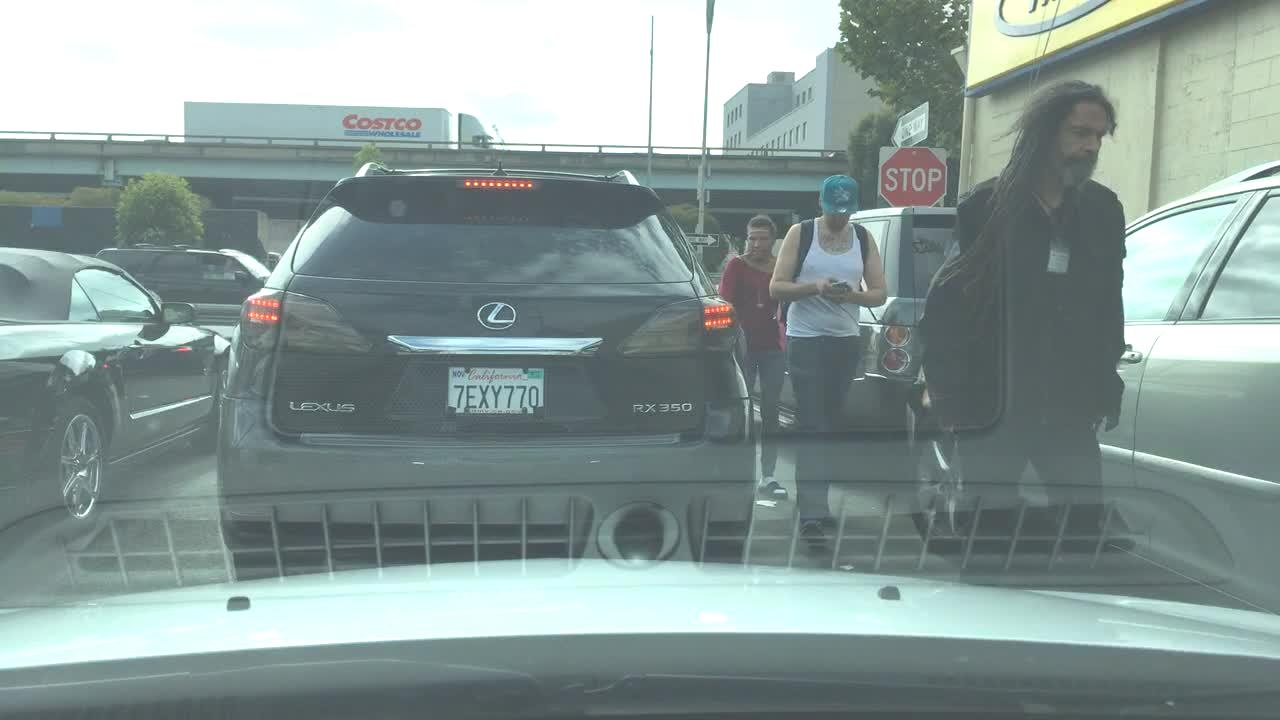lexus: (458, 288, 536, 338)
